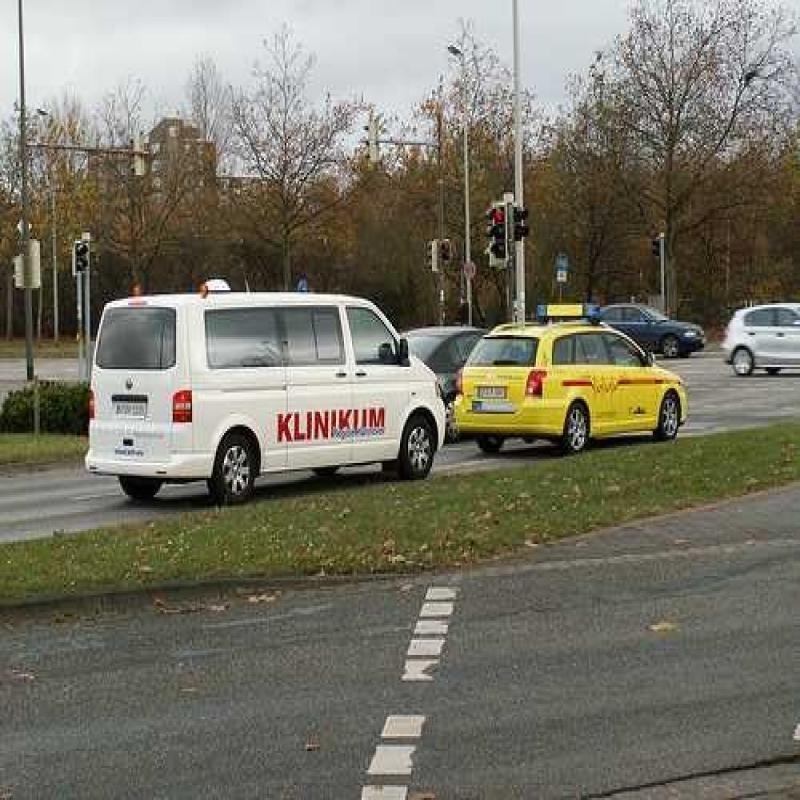AmbulanceSiren: (530, 290, 600, 332)
